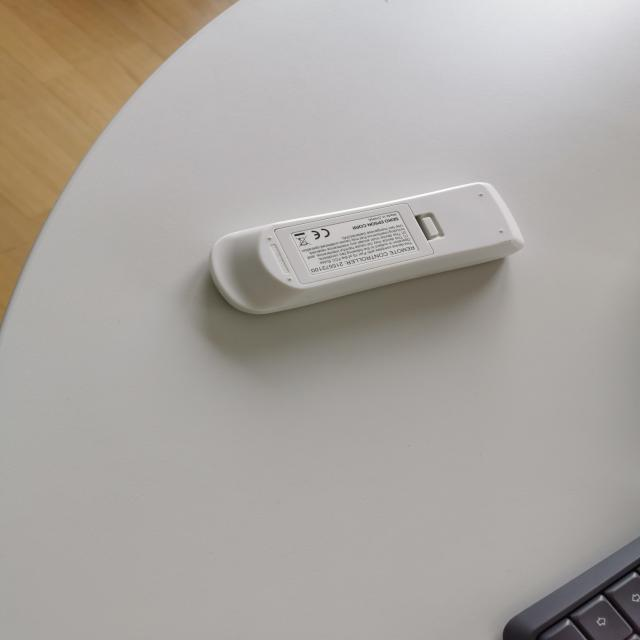remote: (210, 181, 519, 314)
